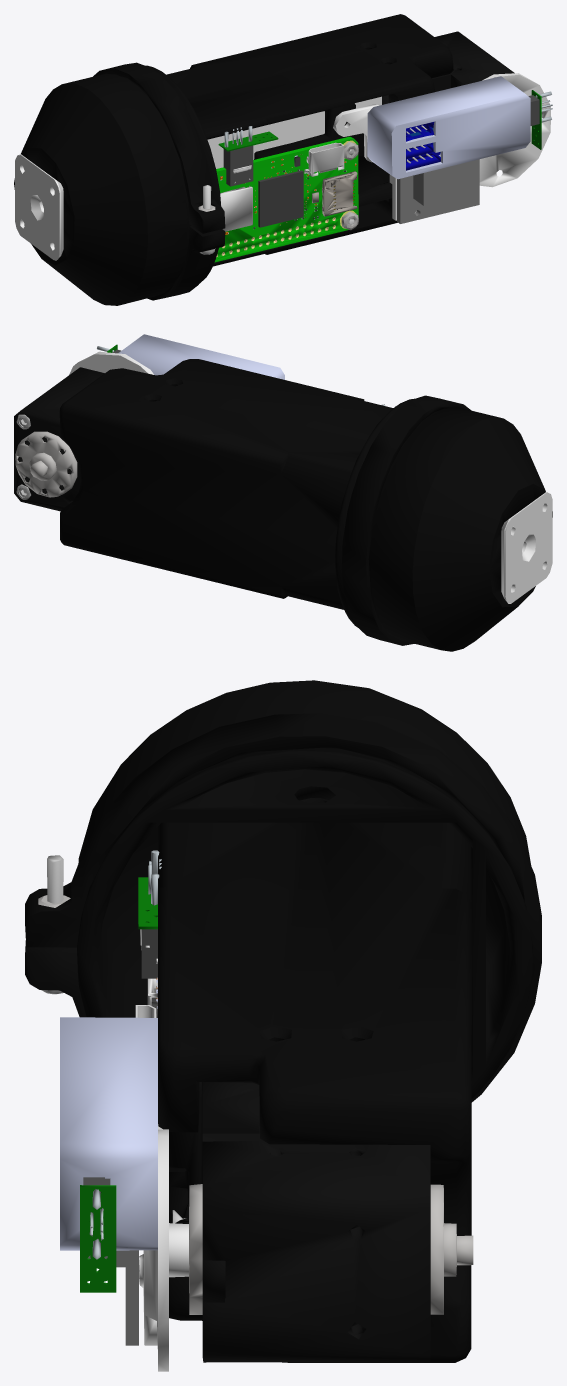
Rendered from link_body_00.obj.
3 renders of one model, top to bottom at view 1: azimuth 30°, elevation 25°; view 2: azimuth 150°, elevation 25°; view 3: azimuth 270°, elevation 25°, orthographic. The views are drawn at different scales.
Visible parts, largest first — view 1: link_body_00; view 2: link_body_00; view 3: link_body_00.
Boxes of the visible parts, left/top/right/bottom form: link_body_00: left=14, top=14, right=552, bottom=305; link_body_00: left=14, top=334, right=552, bottom=651; link_body_00: left=25, top=680, right=541, bottom=1371.
Bounding box in the file's own units: 164 × 70.7 × 77.04.
